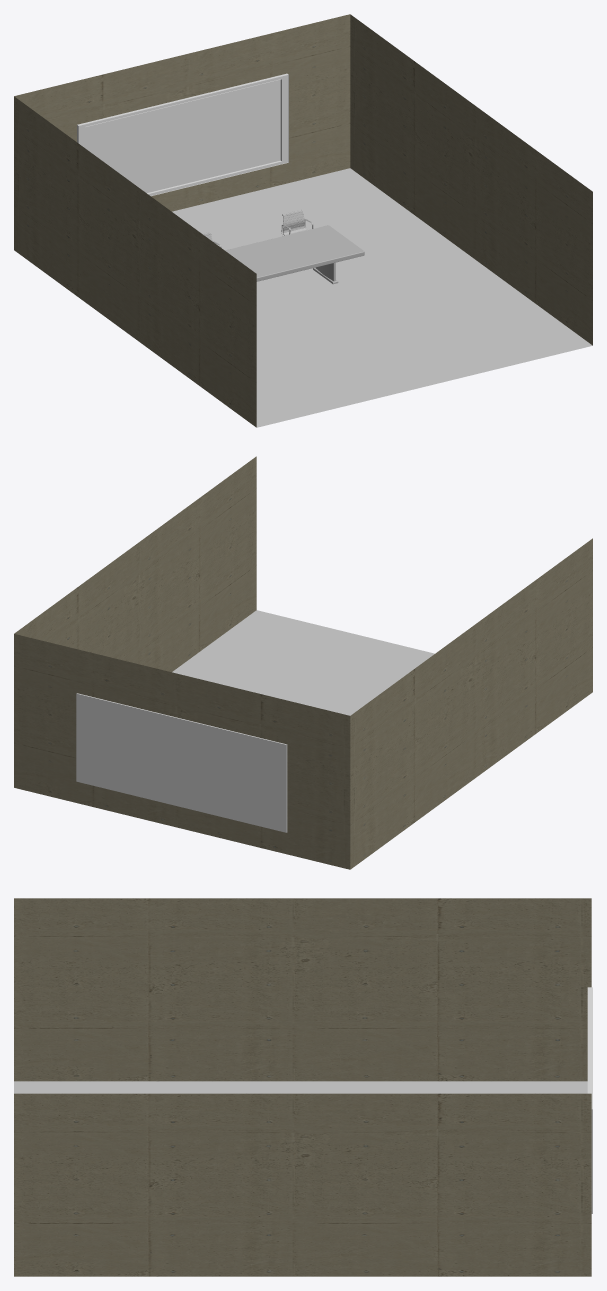
The model's file is HoloZoom Room.fbx.
3 renders of one model, top to bottom at view 1: azimuth 30°, elevation 25°; view 2: azimuth 150°, elevation 25°; view 3: azimuth 270°, elevation 25°, orthographic. The views are drawn at different scales.
Visible parts, largest first — view 1: Plane, Plane.003, Plane.004, Plane.001, Cube, ConferenceTable1; view 2: Plane.004, Plane.001, Plane.003, Cube, Plane; view 3: Plane.003, Plane.004, Plane, Cube.
Boxes of the visible parts, box(x1,y1,x2,y2) form: Plane: box(172, 168, 592, 427); Plane.003: box(350, 14, 592, 345); Plane.004: box(14, 96, 256, 427); Plane.001: box(14, 14, 350, 211); Cube: box(77, 73, 288, 196); ConferenceTable1: box(225, 225, 364, 284); Plane.004: box(350, 538, 592, 869); Plane.001: box(14, 634, 350, 869); Plane.003: box(14, 456, 256, 672); Cube: box(76, 693, 287, 832); Plane: box(172, 610, 434, 715); Plane.003: box(14, 1093, 591, 1276); Plane.004: box(14, 898, 591, 1081); Plane: box(14, 1081, 587, 1093); Cube: box(587, 987, 592, 1213).
Bounding box in the file's own units: 800 × 350 × 1003.
